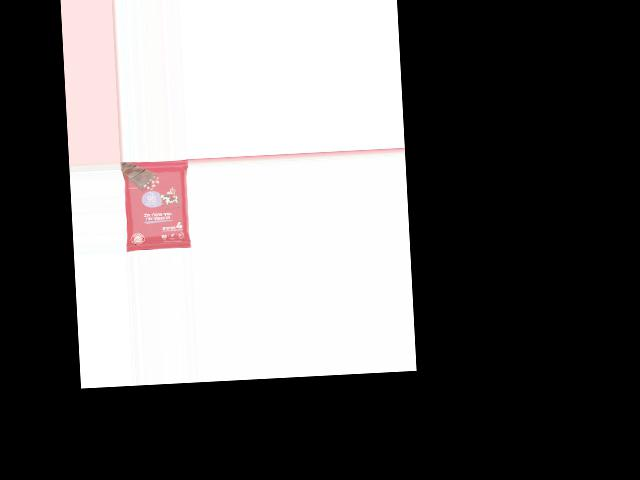chocolate: (123, 159, 192, 252)
